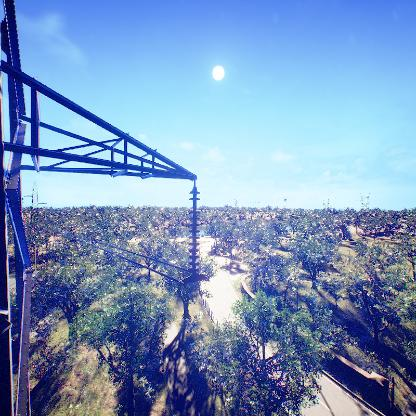insulator: (188, 189, 202, 275)
